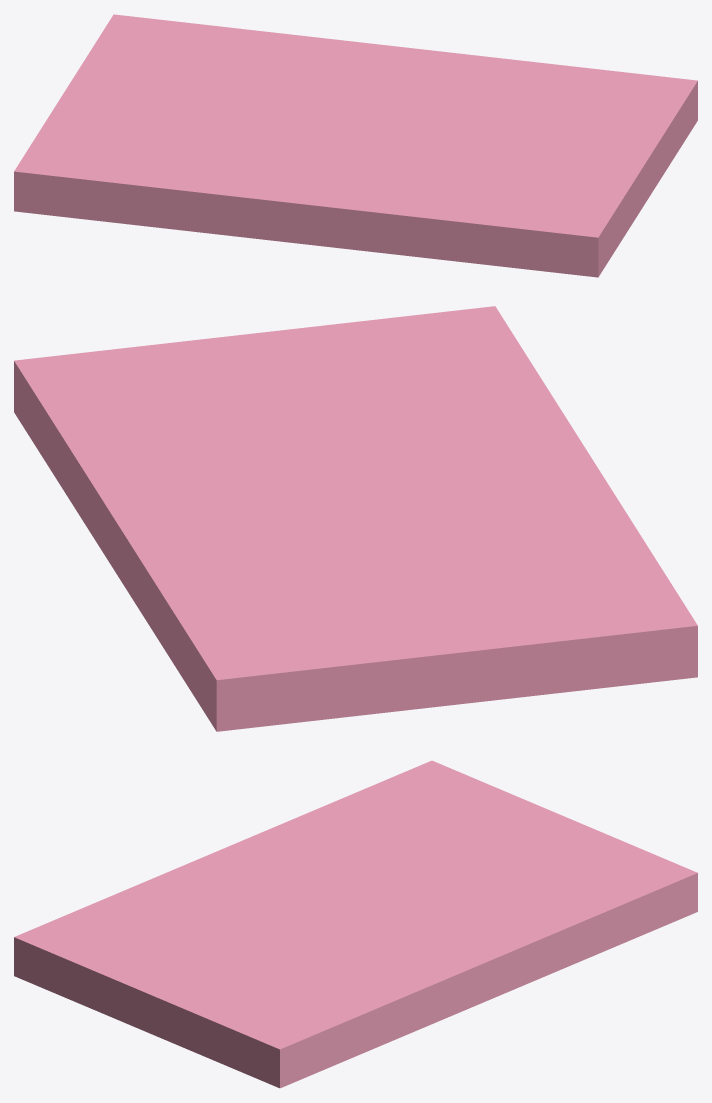
File: rombo.glb
3 renders of one model, top to bottom at view 1: azimuth 30°, elevation 25°; view 2: azimuth 150°, elevation 25°; view 3: azimuth 270°, elevation 25°, orthographic. The views are drawn at different scales.
Visible parts, largest first — view 1: Cubo; view 2: Cubo; view 3: Cubo.
Part boxes in pixels (box(x1,y1,x2,y2)): Cubo: box(14, 14, 697, 277); Cubo: box(14, 306, 697, 731); Cubo: box(14, 760, 697, 1088).
Bounding box in the file's own units: 1.27 × 0.08 × 1.27.
